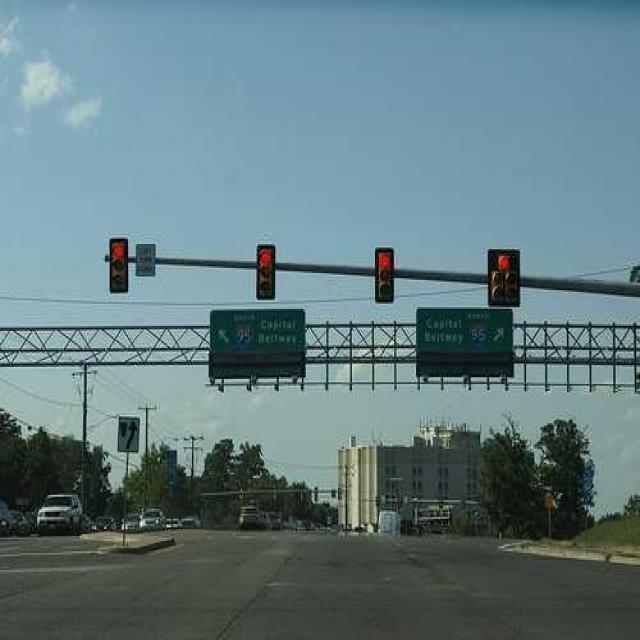red_light: (486, 248, 520, 308), (372, 245, 400, 308), (258, 239, 280, 304), (105, 240, 128, 292)
